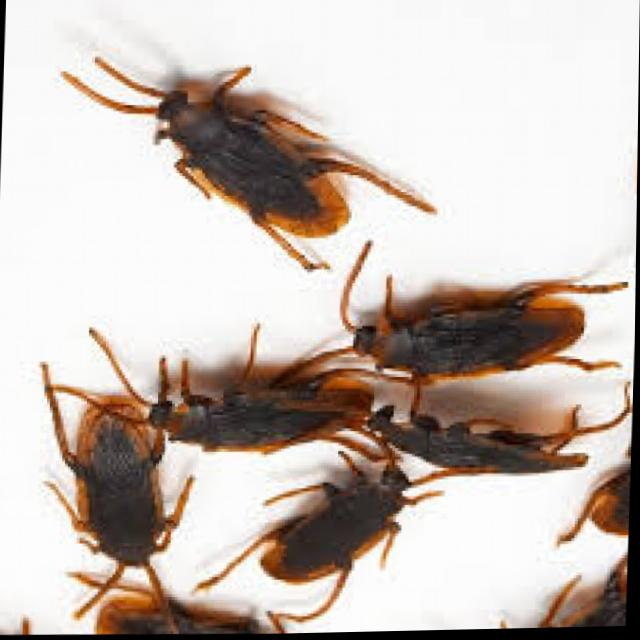Cockroach: (59, 26, 431, 287), (9, 354, 229, 638), (279, 249, 631, 416), (225, 427, 458, 636), (340, 369, 617, 525), (112, 338, 390, 464)
